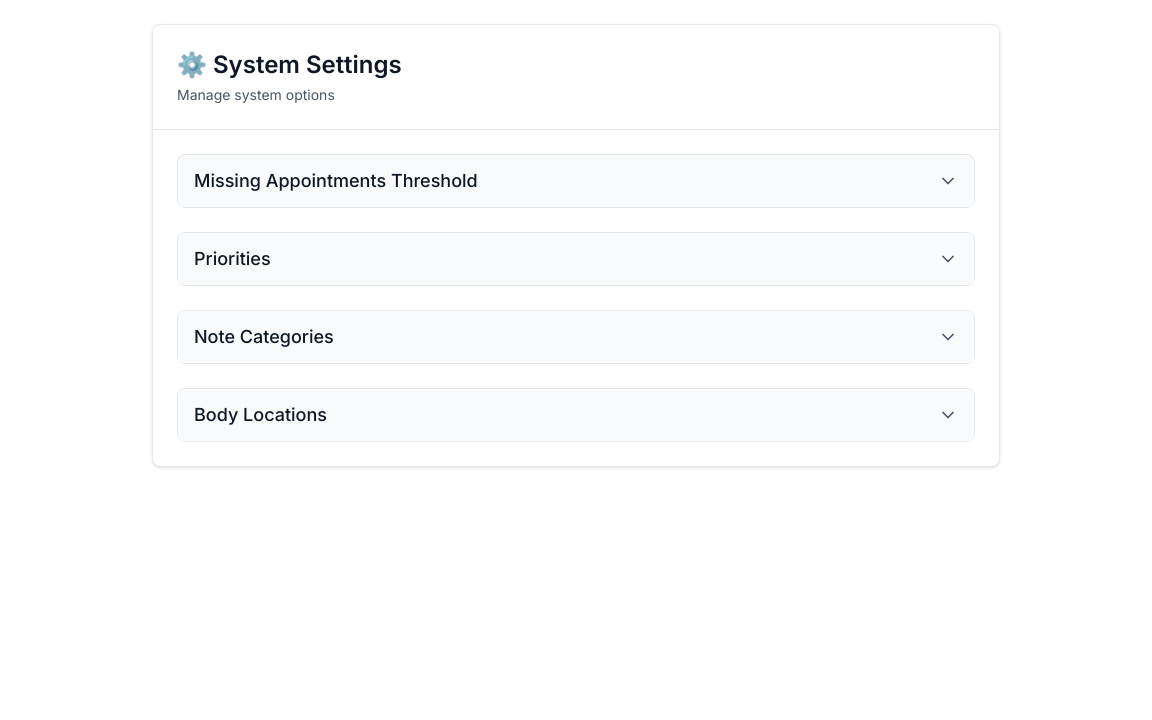
Test case: SystemSettings › expands Absence limit and shows input when data loaded
Click the button "Missing Appointments Threshold" at coordinates (336, 180), box [178,155,974,207]
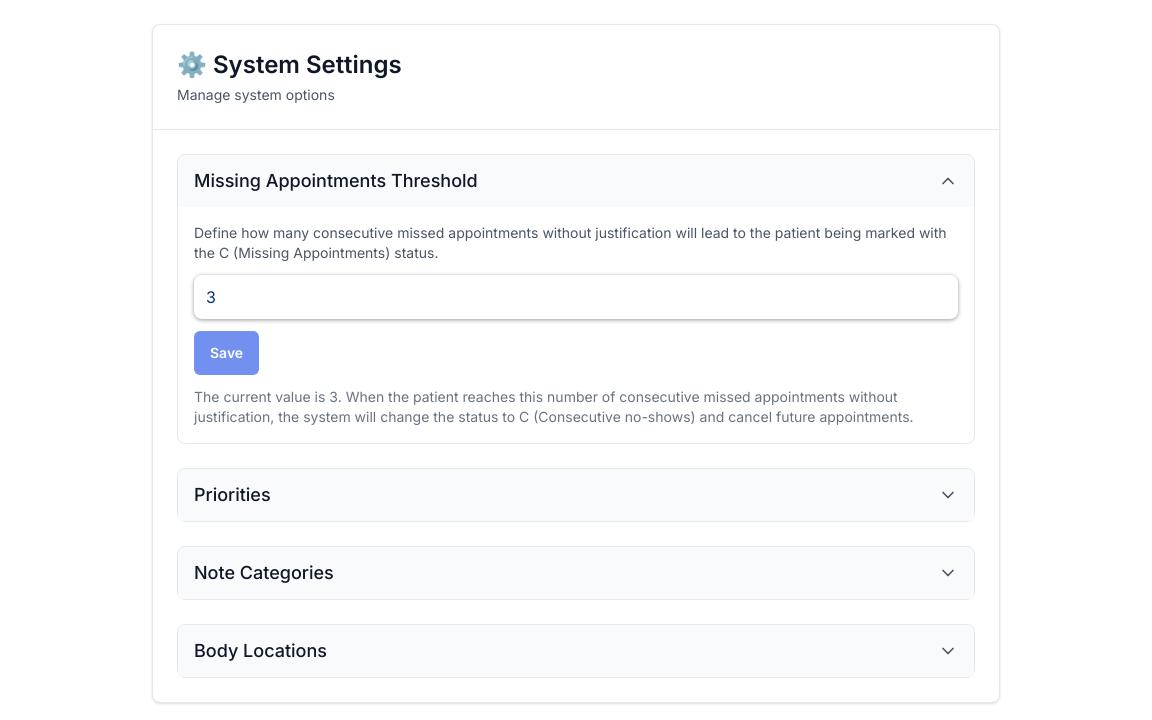
Now the number field named "Missing Appointments Threshold (1 to 10)" holds "3", box [194,275,958,319]
Now the button "Save" is shown, box [194,331,259,375]
